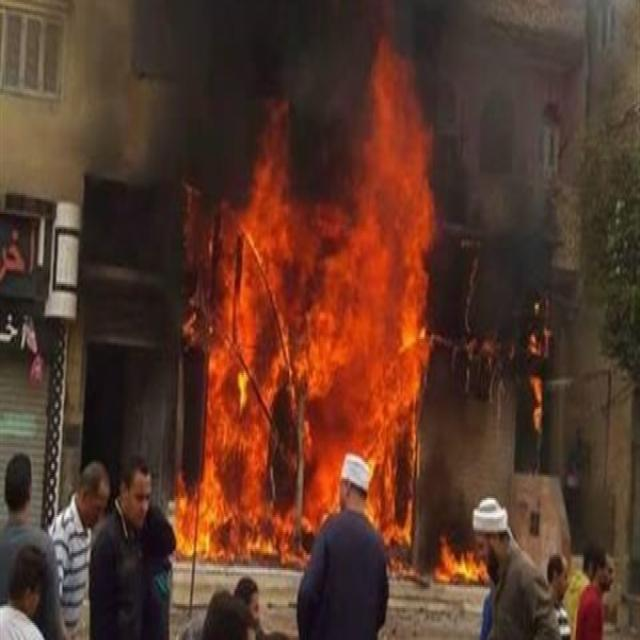Fire: (168, 46, 429, 583), (432, 533, 491, 587), (526, 296, 552, 359), (529, 374, 545, 436)
Smoke: (428, 48, 562, 289), (93, 0, 500, 46)
